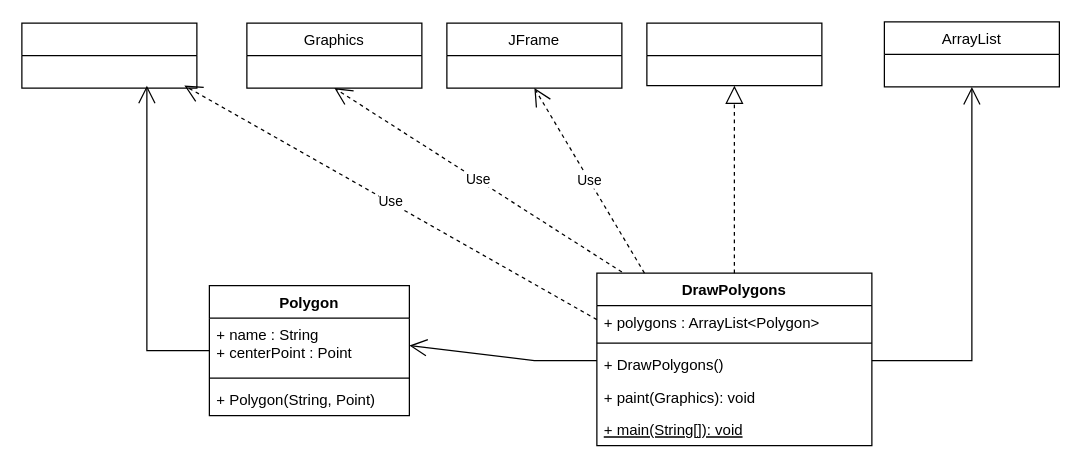
This 1081x471 diagram has some shape labels left out. The shapes that lost their labels are listed below. From the top down, each one's box as (x1, y1, x2, y2) in pixels, then its label:
(21, 22, 197, 88): Point
(646, 22, 822, 86): JComponent
